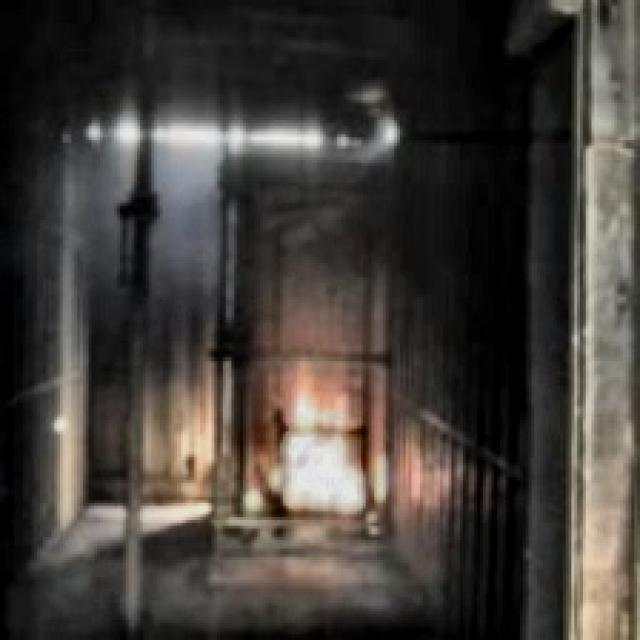fire: (274, 368, 380, 522)
